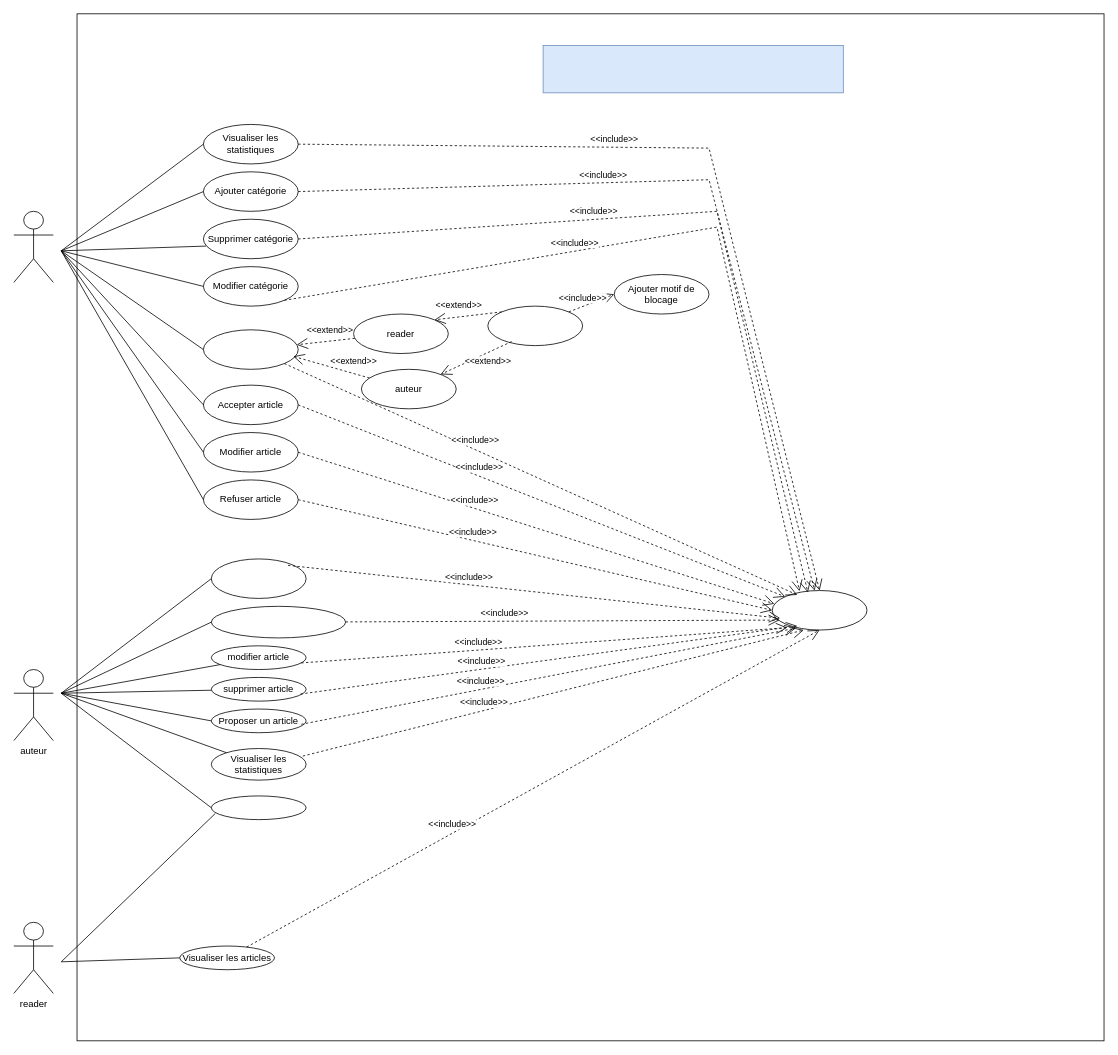
Image size: 1118x1055. Some labels were removed from this diagram. Here are the shapes that lost their labels. From the top down, the centre of each, then its label:
[692,69]: Système de gestion de contenu culturel" (SGCC)"
[33,246]: admin
[535,325]: bloquer
[250,349]: Consulter Profile
[258,578]: Chercher un article par son nom
[278,622]: Filtrer les articles par catégorie
[819,610]: S'authentifier
[258,807]: Créer un compte
